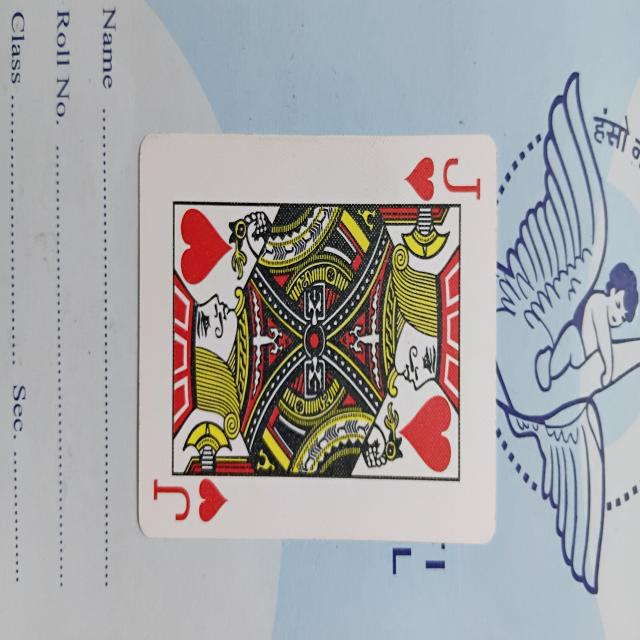JH: (140, 130, 495, 542)
